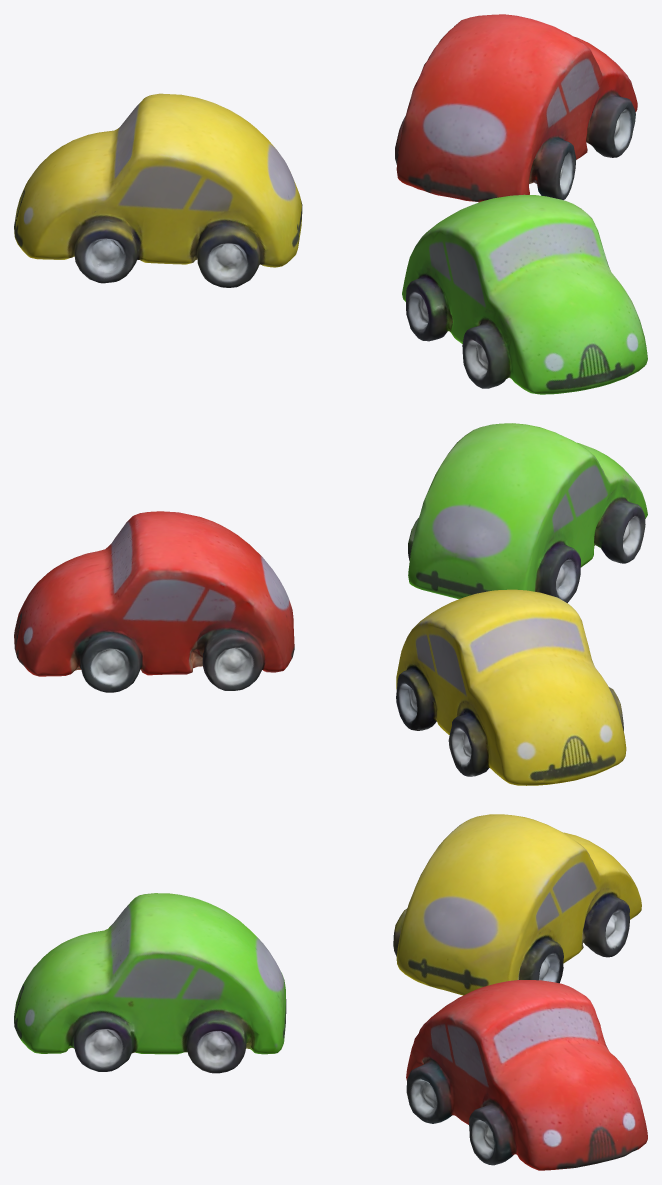
File: CARSII.glb
3 renders of one model, top to bottom at view 1: azimuth 30°, elevation 25°; view 2: azimuth 150°, elevation 25°; view 3: azimuth 270°, elevation 25°, orthographic. The views are drawn at different scales.
Visible parts, largest first — view 1: CARSII; view 2: CARSII; view 3: CARSII.
Boxes of the visible parts, x1,y1,x2,y2 form: CARSII: (14,14,647,394); CARSII: (14,423,647,785); CARSII: (14,814,647,1170).
Bounding box in the file's own units: 0.1228 × 0.0274 × 0.1156.
1 material, 1 textured.
